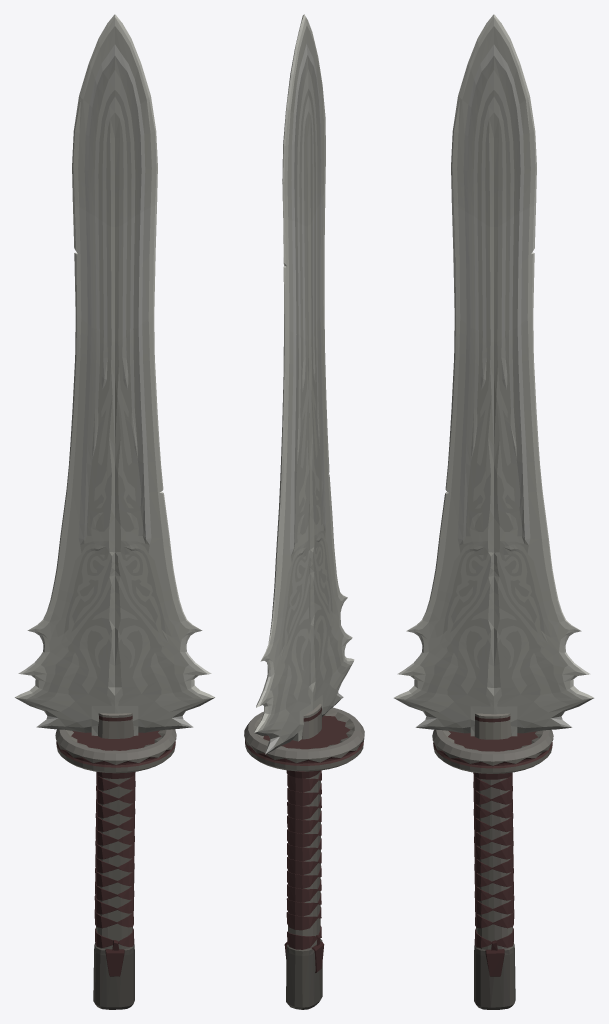
The model's file is bladedHeavyLostCrownSword.glb.
3 views of the same model, side by side, from view 1: azimuth 90°, elevation 25°; view 2: azimuth 150°, elevation 25°; view 3: azimuth 270°, elevation 25° (orthographic).
Parts seen in each view (by area): view 1: bladedHeavyLostCrownSword; view 2: bladedHeavyLostCrownSword; view 3: bladedHeavyLostCrownSword.
Part boxes in pixels (x1,y1,x2,y2): bladedHeavyLostCrownSword: [14, 14, 215, 1009]; bladedHeavyLostCrownSword: [244, 14, 364, 1009]; bladedHeavyLostCrownSword: [394, 14, 593, 1009].
Bounding box in the file's own units: 0.172 × 1.55 × 0.2854.
